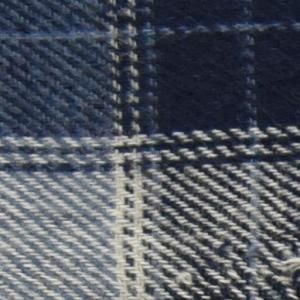Damage: (216, 234, 300, 300)
